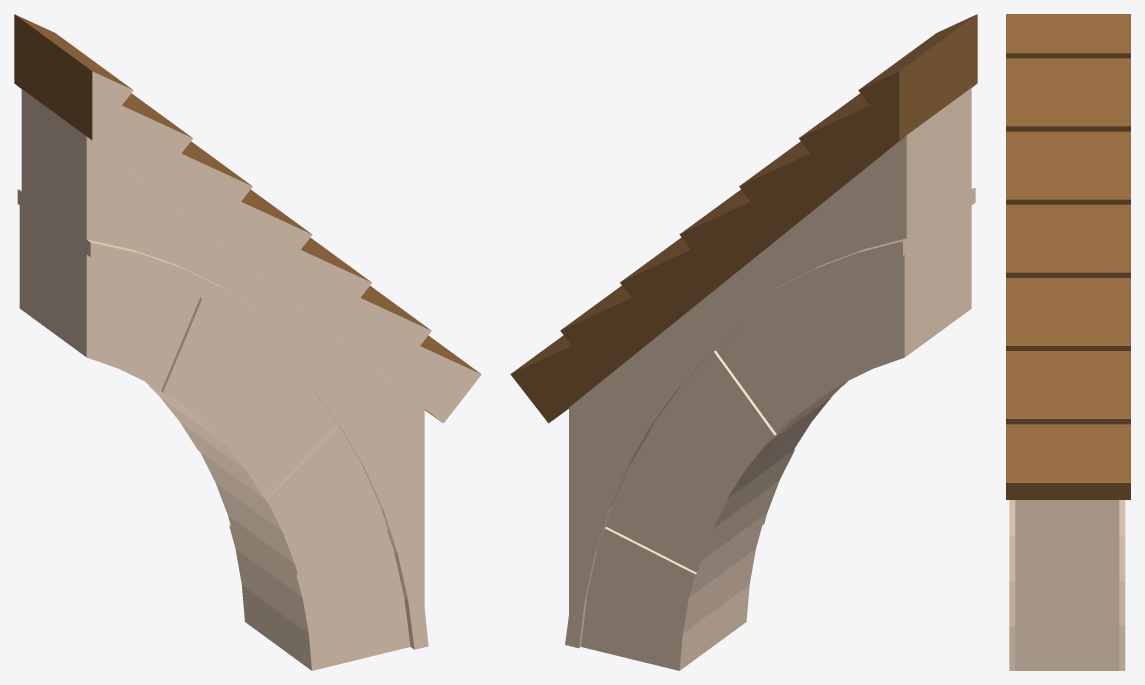
The model's file is Building_Facade_Modular_Archway_Roof_01.fbx.
3 renders of one model, left to right at view 1: azimuth 30°, elevation 25°; view 2: azimuth 150°, elevation 25°; view 3: azimuth 270°, elevation 25°, orthographic. The views are drawn at different scales.
Visible parts, largest first — view 1: Building_Facade_Modular_Archway_Roof_01; view 2: Building_Facade_Modular_Archway_Roof_01; view 3: Building_Facade_Modular_Archway_Roof_01.
Part boxes in pixels (x1=…): Building_Facade_Modular_Archway_Roof_01: x1=14, y1=14, x2=481, y2=670; Building_Facade_Modular_Archway_Roof_01: x1=510, y1=14, x2=977, y2=670; Building_Facade_Modular_Archway_Roof_01: x1=1006, y1=14, x2=1130, y2=670.
Size of the model in its own units: 1614 by 2610 by 562.
